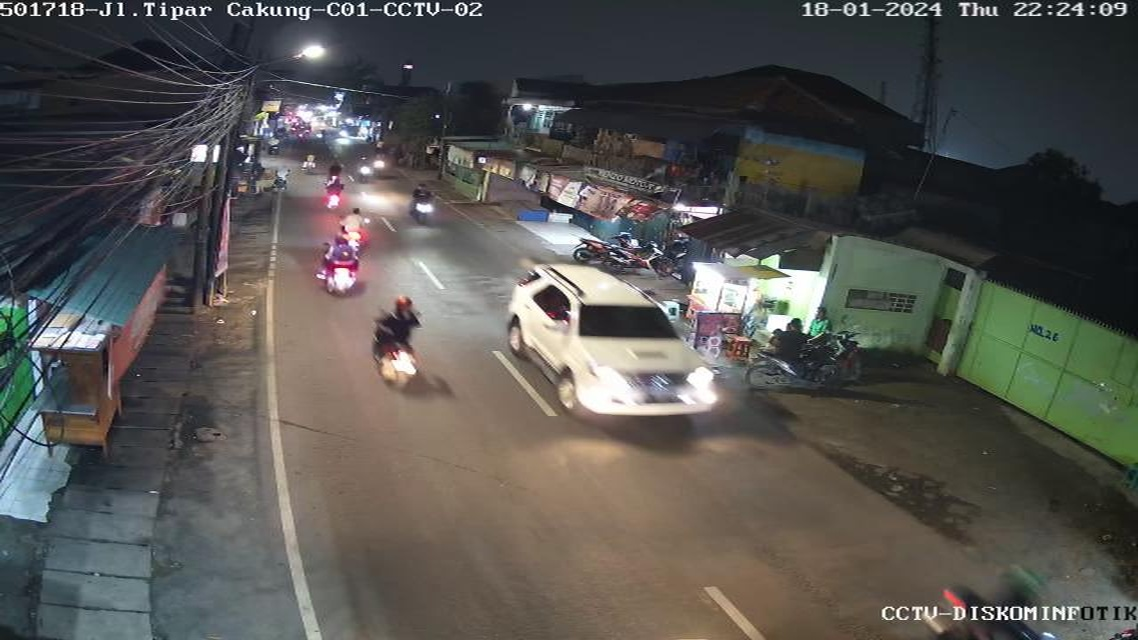Gerobak: (21, 302, 144, 466), (677, 255, 765, 359)
